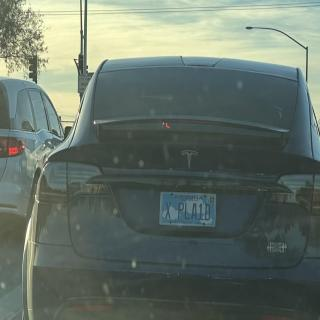license: (159, 192, 218, 229)
